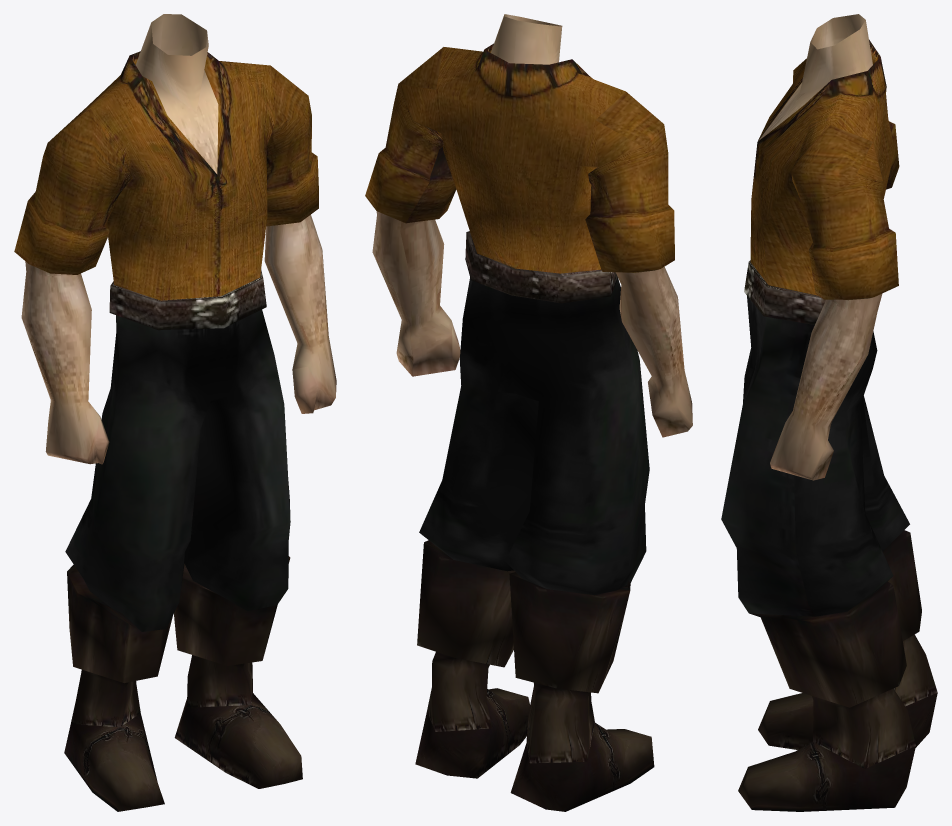
Rendered from KOSZULA_POMARANCZ.glb.
3 renders of one model, left to right at view 1: azimuth 30°, elevation 25°; view 2: azimuth 150°, elevation 25°; view 3: azimuth 270°, elevation 25°, orthographic.
Visible parts, largest first — view 1: KOSZULA_POMARANCZ; view 2: KOSZULA_POMARANCZ; view 3: KOSZULA_POMARANCZ.
Part boxes in pixels (left/top/right/bottom): KOSZULA_POMARANCZ: left=14, top=14, right=336, bottom=811; KOSZULA_POMARANCZ: left=365, top=14, right=692, bottom=811; KOSZULA_POMARANCZ: left=721, top=14, right=937, bottom=811.
Bounding box in the file's own units: 0.6885 × 1.68 × 0.4402.
2 materials, 2 textured.
